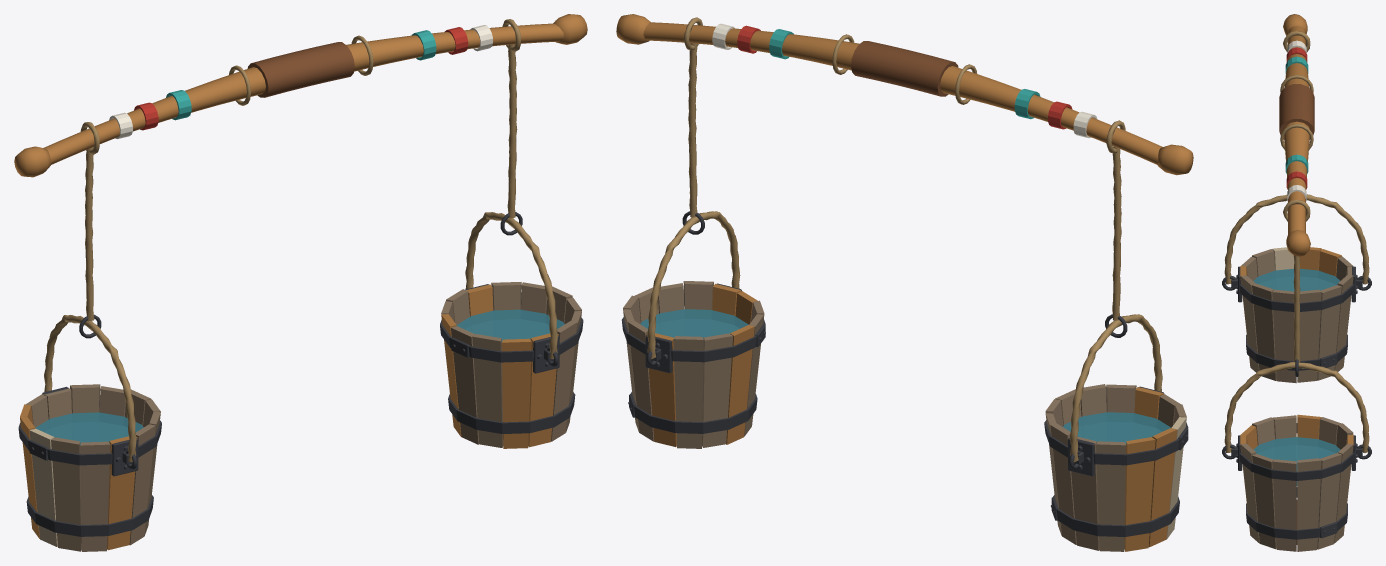
The model's file is carry_yoke.fbx.
3 views of the same model, side by side, from view 1: azimuth 30°, elevation 25°; view 2: azimuth 150°, elevation 25°; view 3: azimuth 270°, elevation 25° (orthographic). The views are drawn at different scales.
Parts seen in each view (by area): view 1: Carry_Yoke_Bucket_R, Carry_Yoke_Bucket_L, Carry_Yoke_Yoke, Carry_Yoke_Water, Carry_Yoke_NeckPad, Carry_Yoke_Cords, Carry_Yoke_Bail_R, Carry_Yoke_Bail_L, Carry_Yoke_Fittings; view 2: Carry_Yoke_Bucket_R, Carry_Yoke_Bucket_L, Carry_Yoke_Yoke, Carry_Yoke_Water, Carry_Yoke_NeckPad, Carry_Yoke_Cords, Carry_Yoke_Bail_L, Carry_Yoke_Bail_R, Carry_Yoke_Fittings; view 3: Carry_Yoke_Bucket_R, Carry_Yoke_Bucket_L, Carry_Yoke_Yoke, Carry_Yoke_Water, Carry_Yoke_NeckPad, Carry_Yoke_Bail_R, Carry_Yoke_Bail_L, Carry_Yoke_Cords, Carry_Yoke_Fittings.
Part boxes in pixels (x1,y1,x2,y2): Carry_Yoke_Bucket_R: [440, 282, 583, 448]; Carry_Yoke_Bucket_L: [18, 384, 161, 551]; Carry_Yoke_Yoke: [14, 14, 587, 177]; Carry_Yoke_Water: [35, 309, 564, 444]; Carry_Yoke_NeckPad: [229, 35, 373, 105]; Carry_Yoke_Cords: [85, 44, 517, 321]; Carry_Yoke_Bail_R: [465, 212, 557, 358]; Carry_Yoke_Bail_L: [44, 315, 136, 461]; Carry_Yoke_Fittings: [79, 19, 522, 338]; Carry_Yoke_Bucket_R: [621, 281, 765, 448]; Carry_Yoke_Bucket_L: [1044, 384, 1188, 551]; Carry_Yoke_Yoke: [616, 14, 1193, 175]; Carry_Yoke_Water: [640, 309, 1171, 444]; Carry_Yoke_NeckPad: [832, 34, 977, 104]; Carry_Yoke_Cords: [688, 43, 1121, 320]; Carry_Yoke_Bail_L: [1069, 314, 1162, 462]; Carry_Yoke_Bail_R: [647, 211, 740, 359]; Carry_Yoke_Fittings: [682, 17, 1127, 337]; Carry_Yoke_Bucket_R: [1222, 414, 1371, 551]; Carry_Yoke_Bucket_L: [1222, 247, 1371, 383]; Carry_Yoke_Yoke: [1283, 14, 1310, 256]; Carry_Yoke_Water: [1253, 268, 1340, 485]; Carry_Yoke_NeckPad: [1279, 75, 1314, 149]; Carry_Yoke_Bail_R: [1224, 362, 1369, 452]; Carry_Yoke_Bail_L: [1224, 194, 1369, 284]; Carry_Yoke_Cords: [1293, 255, 1300, 361]; Carry_Yoke_Fittings: [1283, 31, 1310, 376].
Bounding box in the file's own units: 158 × 113 × 43.88.
